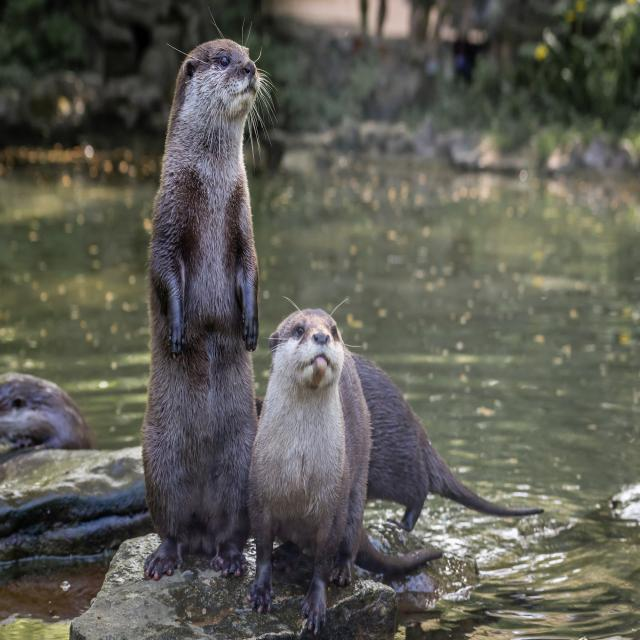Otter: (250, 305, 534, 618), (142, 34, 268, 577)
